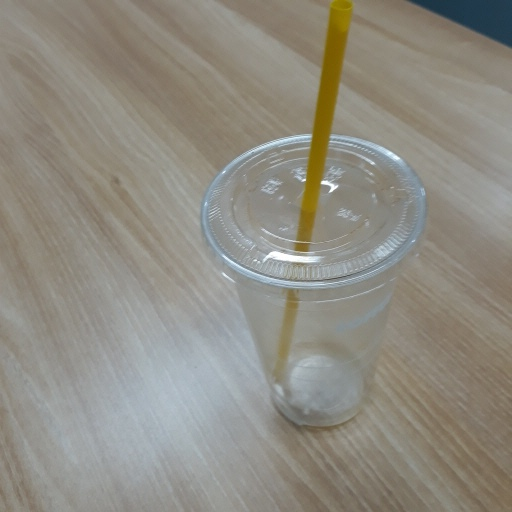Plastic_2: (195, 1, 431, 443)
